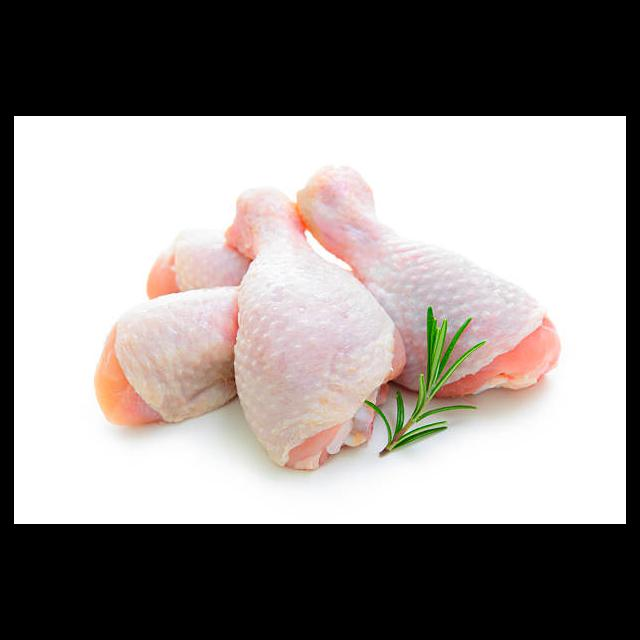chicken: (297, 162, 561, 400), (235, 186, 403, 468), (92, 284, 249, 428)
